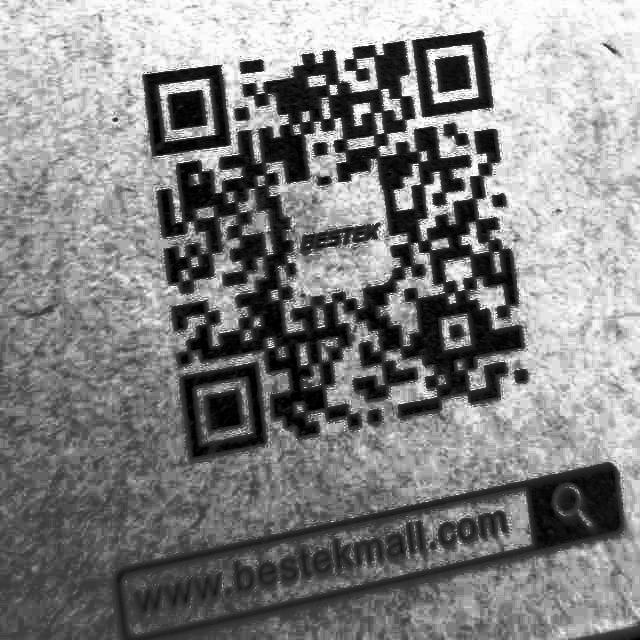qr_code: (125, 22, 545, 467)
